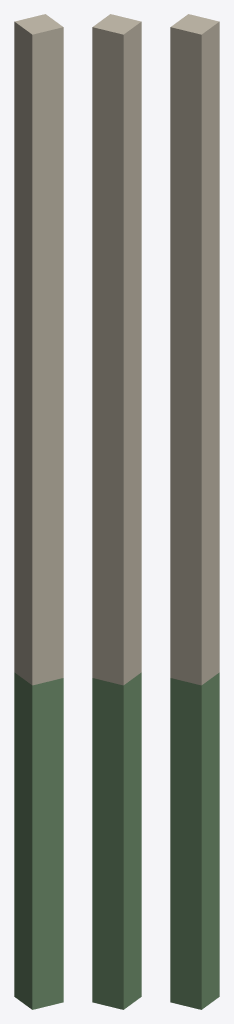
Rendered from Mesh_Wall2Colors_E5.fbx.
The picture shows the model from 3 angles, left to right: view 1: azimuth 30°, elevation 25°; view 2: azimuth 150°, elevation 25°; view 3: azimuth 330°, elevation 25°; orthographic projection.
Parts seen in each view (by area): view 1: Mesh_Wall2Colors_E5; view 2: Mesh_Wall2Colors_E5; view 3: Mesh_Wall2Colors_E5.
Boxes of the visible parts, x1,y1,x2,y2 form: Mesh_Wall2Colors_E5: [14, 14, 63, 1009]; Mesh_Wall2Colors_E5: [92, 14, 141, 1009]; Mesh_Wall2Colors_E5: [170, 14, 219, 1009].
Size of the model in its own units: 0.1 by 3 by 0.1.
